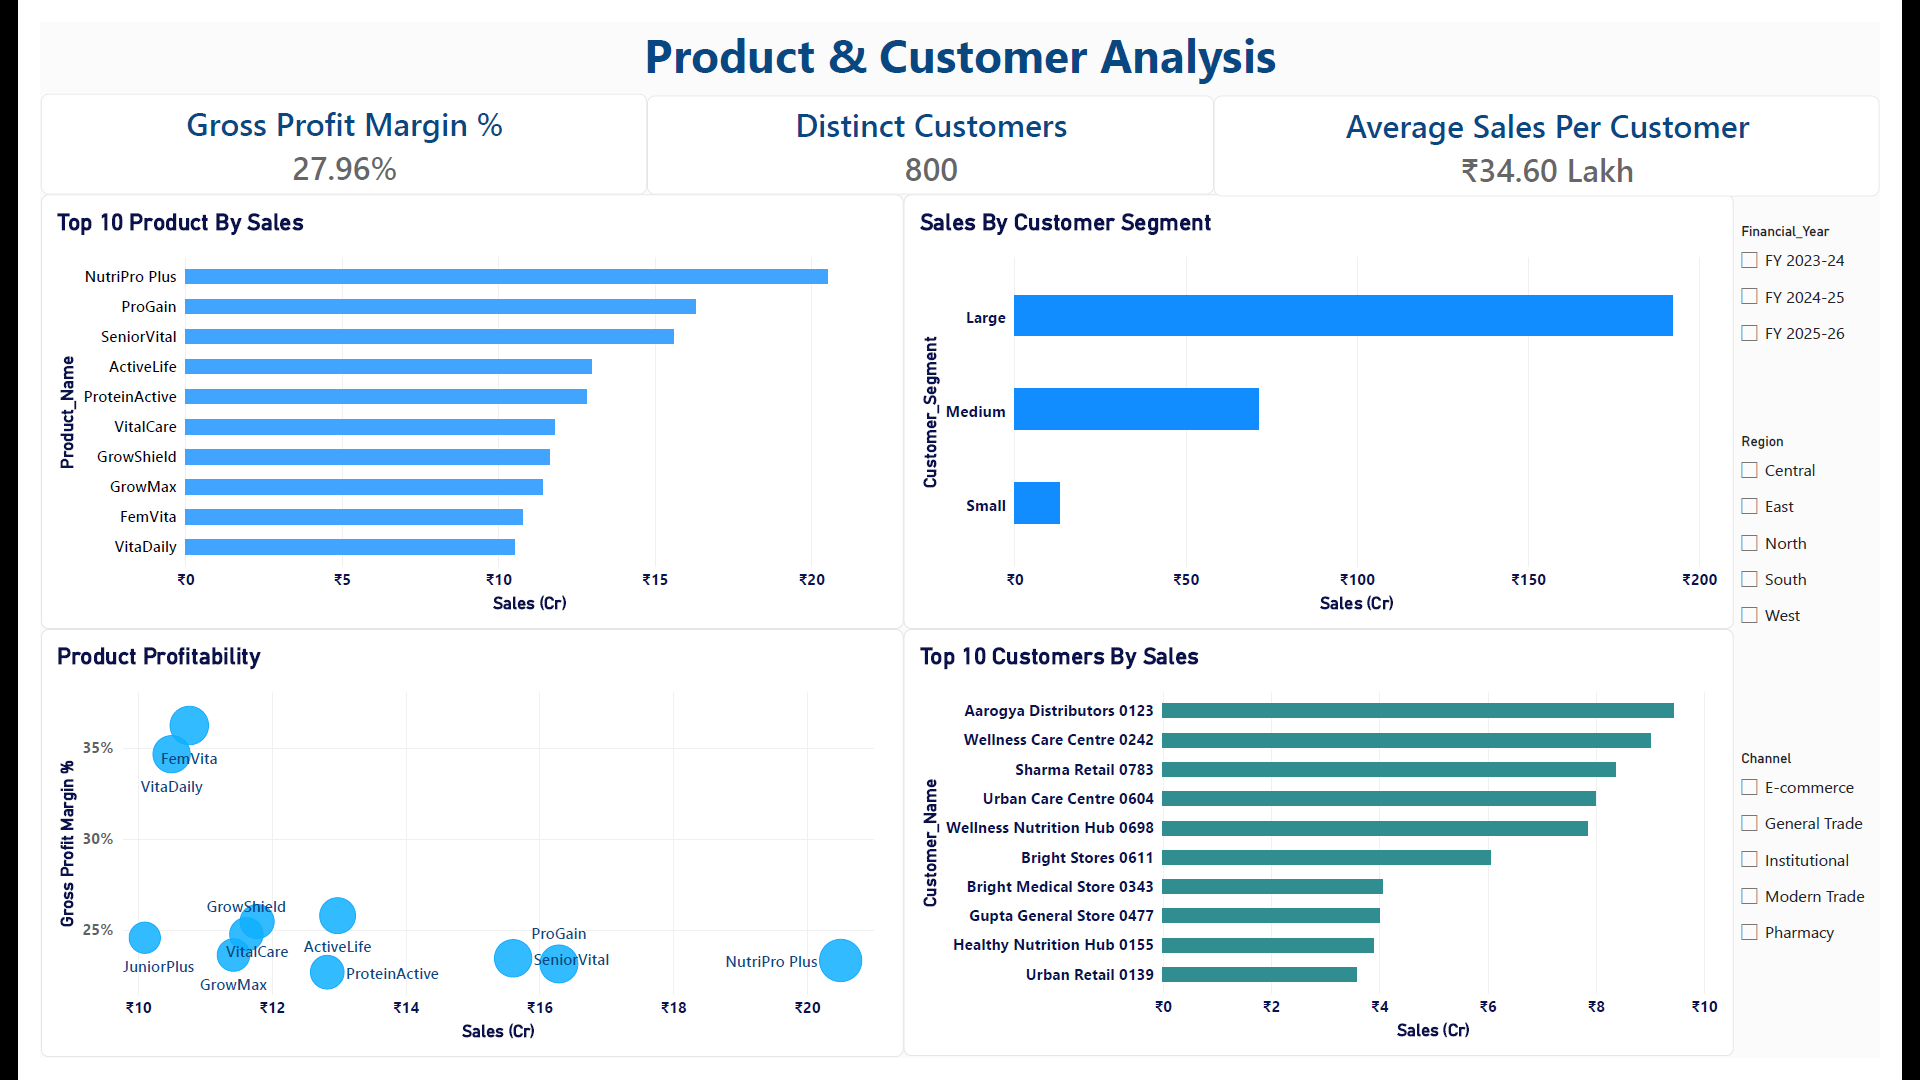

The page's visual inventory and layout, read from the dashboard file:
{"tool":"powerbi","page":{"name":"Product and Customer Analysis","canvas":[1920,1080],"ordinal":1},"visuals":[{"type":"clusteredBarChart","title":"Top 10 Product By Sales","fields":{"Category":["Dim_Product.Product_Name"],"Y":["Fact_Sales.Sales (Cr)"]},"box":[10.9,105,901.2,410.8],"z":0},{"type":"scatterChart","title":"Product Profitability","fields":{"Category":["Dim_Product.Product_Name"],"Size":["Fact_Sales.Profit (Cr)"],"X":["Fact_Sales.Sales (Cr)"],"Y":["Fact_Sales.Gross Profit Margin %"]},"box":[10.9,515.8,901.2,407.2],"z":1000},{"type":"clusteredBarChart","title":"Sales By Customer Segment","fields":{"Category":["Dim_Customer.Customer_Segment"],"Y":["Fact_Sales.Sales (Cr)"]},"box":[912.1,105,866.8,410.8],"z":2000},{"type":"clusteredBarChart","title":"Top 10 Customers By Sales","fields":{"Category":["Dim_Customer.Customer_ID"],"Y":["Fact_Sales.Sales (Cr)"]},"box":[912.1,515.8,866.8,405.4],"z":3000},{"type":"cardVisual","fields":{"Data":["Fact_Sales.Gross Profit Margin %"]},"box":[10.9,0,633.4,105],"z":4000},{"type":"cardVisual","fields":{"Data":["Fact_Sales.Distinct Customers"]},"box":[644.2,0,591.8,103.2],"z":5000},{"type":"cardVisual","fields":{"Data":["Fact_Sales.Average Sales per Customer"]},"box":[1236,0,684.1,105],"z":6000},{"type":"textbox","box":[100,100,300,300],"z":7000},{"type":"textbox","box":[100,100,300,300],"z":7001},{"type":"textbox","box":[10.9,922.9,1909.2,157.4],"z":7002},{"type":"slicer","fields":{"Values":["Dim_Date.Financial_Year"]},"box":[1778.9,150.2,141.2,144.8],"z":7003},{"type":"slicer","fields":{"Values":["Dim_Territory.Region"]},"box":[1784.3,342,135.7,217.2],"z":7004},{"type":"slicer","fields":{"Values":["Dim_Customer.Channel"]},"box":[1778.9,609.9,141.2,222.6],"z":7005}]}

Visuals, with their boxes in screenshot pixels (x1, y1, x2, y2), scaled from the page's 1920x1080 canvas onto the 1920x1080 screenshot:
"Top 10 Product By Sales" clusteredBarChart: 11, 105, 912, 516
"Product Profitability" scatterChart: 11, 516, 912, 923
"Sales By Customer Segment" clusteredBarChart: 912, 105, 1779, 516
"Top 10 Customers By Sales" clusteredBarChart: 912, 516, 1779, 921
cardVisual - Fact_Sales.Gross Profit Margin %: 11, 0, 644, 105
cardVisual - Fact_Sales.Distinct Customers: 644, 0, 1236, 103
cardVisual - Fact_Sales.Average Sales per Customer: 1236, 0, 1919, 105
textbox: 100, 100, 400, 400
textbox: 100, 100, 400, 400
textbox: 11, 923, 1919, 1079
slicer - Dim_Date.Financial_Year: 1779, 150, 1919, 295
slicer - Dim_Territory.Region: 1784, 342, 1919, 559
slicer - Dim_Customer.Channel: 1779, 610, 1919, 832
